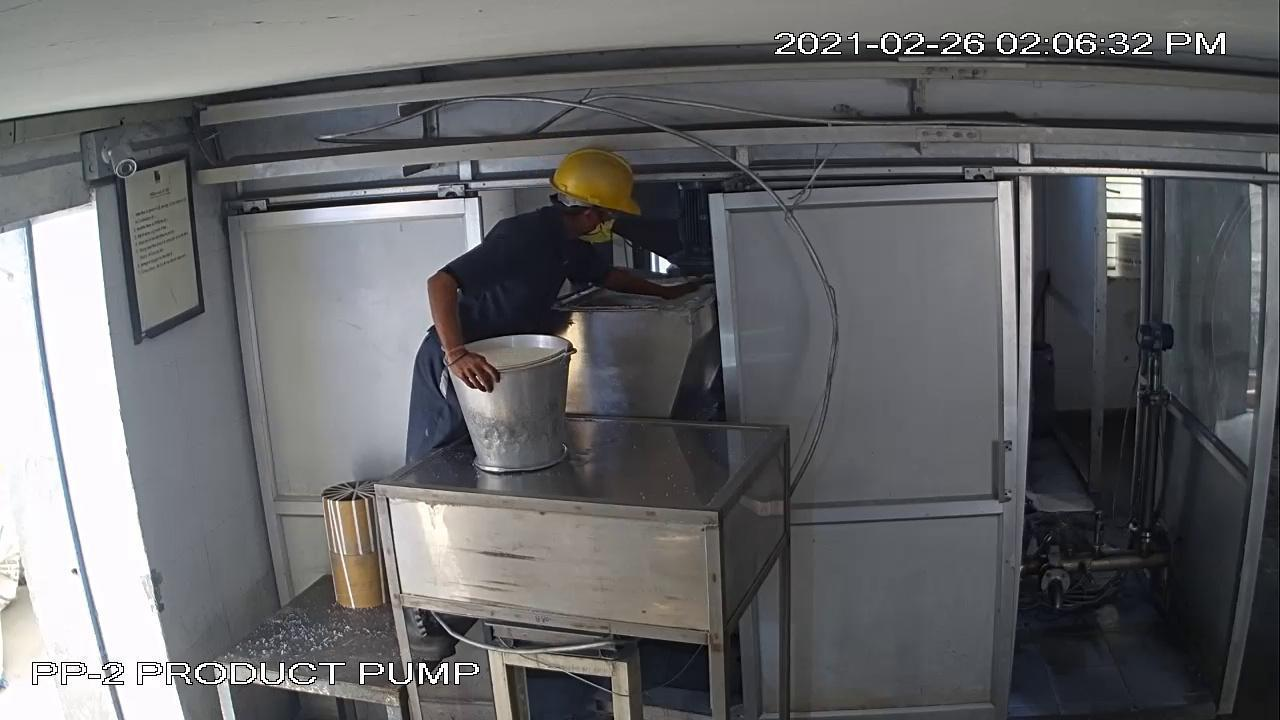helmet: (528, 146, 651, 222)
